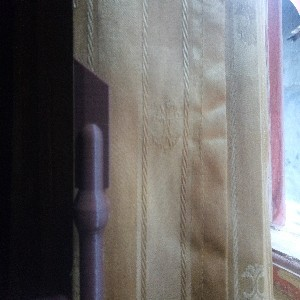cutter: (71, 58, 111, 300)
